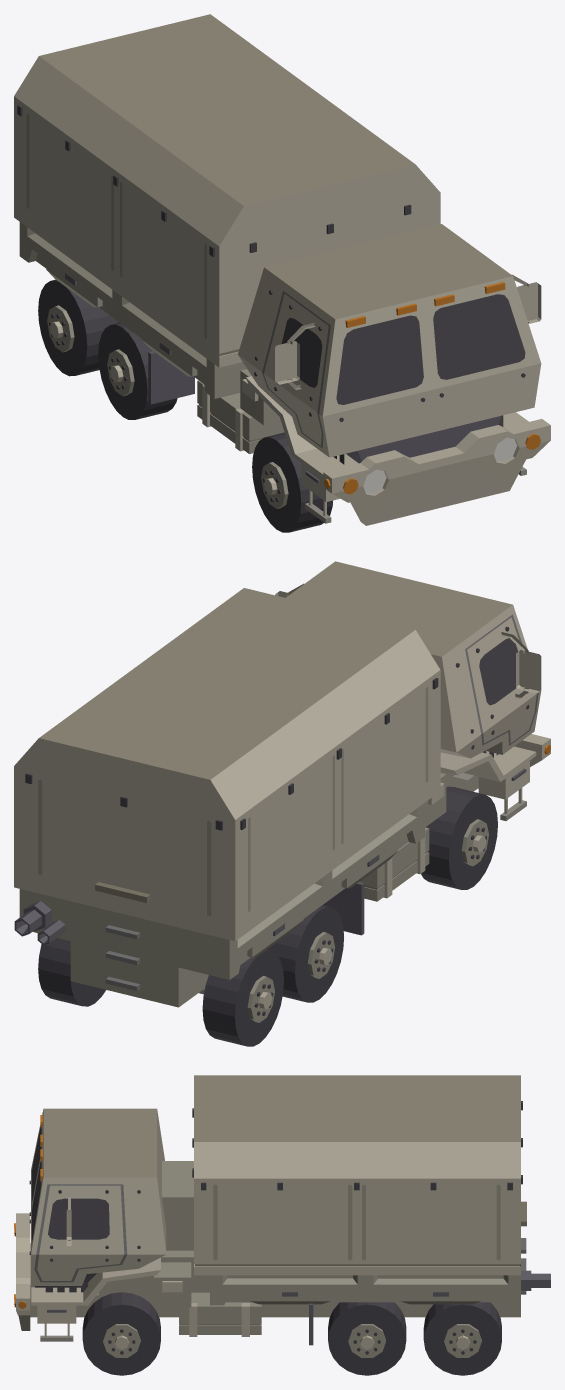
The model's file is scene_DLG31hRhQG.glb.
The picture shows the model from 3 angles, top to bottom: view 1: azimuth 30°, elevation 25°; view 2: azimuth 150°, elevation 25°; view 3: azimuth 270°, elevation 25°; orthographic projection. The views are drawn at different scales.
Visible parts, largest first — view 1: Cube_Cube.001, Cube.001_Cube.006, Cube.003_Cube.008, Cube.023_Cube.027, Cube.006_Cube.012, Cube.029_Cube.033, Cube.007_Cube.013, Cube.015_Cube.010, Cube.002_Cube.007, Cube.011_Cube.018, Cube.026_Cube.030, Cube.013_Cube (+7 smaller); view 2: Cube_Cube.001, Cube.001_Cube.006, Cube.006_Cube.012, Cube.007_Cube.013, Cube.004_Cube.009, Cube.029_Cube.033, Cube.009_Cube.015, Cube.015_Cube.010, Cube.002_Cube.007, Cube.024_Cube.028, Cube.013_Cube, Cube.028_Cube.032 (+7 smaller); view 3: Cube_Cube.001, Cube.001_Cube.006, Cube.006_Cube.012, Cube.029_Cube.033, Cube.007_Cube.013, Cube.009_Cube.015, Cube.015_Cube.010, Cube.012_Cube.019, Cube.004_Cube.009, Cube.024_Cube.028, Cube.002_Cube.007, Cube.013_Cube (+6 smaller).
Part boxes in pixels (left/top/right/bottom): Cube_Cube.001: left=14, top=14, right=440, bottom=367; Cube.001_Cube.006: left=238, top=224, right=541, bottom=457; Cube.003_Cube.008: left=323, top=419, right=550, bottom=525; Cube.023_Cube.027: left=336, top=294, right=525, bottom=404; Cube.006_Cube.012: left=98, top=322, right=333, bottom=532; Cube.029_Cube.033: left=19, top=222, right=221, bottom=398; Cube.007_Cube.013: left=38, top=279, right=117, bottom=376; Cube.015_Cube.010: left=197, top=380, right=284, bottom=453; Cube.002_Cube.007: left=246, top=376, right=528, bottom=478; Cube.011_Cube.018: left=346, top=415, right=501, bottom=463; Cube.026_Cube.030: left=275, top=274, right=541, bottom=389; Cube.013_Cube: left=17, top=105, right=411, bottom=338; Cube_Cube.001: left=14, top=588, right=440, bottom=941; Cube.001_Cube.006: left=286, top=561, right=541, bottom=758; Cube.006_Cube.012: left=267, top=786, right=497, bottom=1002; Cube.007_Cube.013: left=38, top=938, right=283, bottom=1046; Cube.004_Cube.009: left=27, top=834, right=408, bottom=977; Cube.029_Cube.033: left=19, top=803, right=424, bottom=979; Cube.009_Cube.015: left=70, top=775, right=478, bottom=1007; Cube.015_Cube.010: left=360, top=827, right=429, bottom=901; Cube.002_Cube.007: left=440, top=746, right=536, bottom=781; Cube.024_Cube.028: left=479, top=638, right=518, bottom=705; Cube.013_Cube: left=240, top=678, right=438, bottom=912; Cube.028_Cube.032: left=478, top=761, right=529, bottom=820; Cube_Cube.001: left=194, top=1075, right=520, bottom=1275; Cube.001_Cube.006: left=31, top=1108, right=166, bottom=1285; Cube.006_Cube.012: left=82, top=1292, right=406, bottom=1375; Cube.029_Cube.033: left=210, top=1275, right=520, bottom=1305; Cube.007_Cube.013: left=423, top=1302, right=501, bottom=1375; Cube.009_Cube.015: left=30, top=1243, right=520, bottom=1317; Cube.015_Cube.010: left=179, top=1292, right=261, bottom=1336; Cube.012_Cube.019: left=162, top=1161, right=193, bottom=1250; Cube.004_Cube.009: left=226, top=1275, right=504, bottom=1302; Cube.024_Cube.028: left=48, top=1198, right=109, bottom=1239; Cube.002_Cube.007: left=31, top=1257, right=160, bottom=1305; Cube.013_Cube: left=192, top=1108, right=512, bottom=1260.
Bounding box in the file's own units: 2.64 × 2.75 × 5.85.
